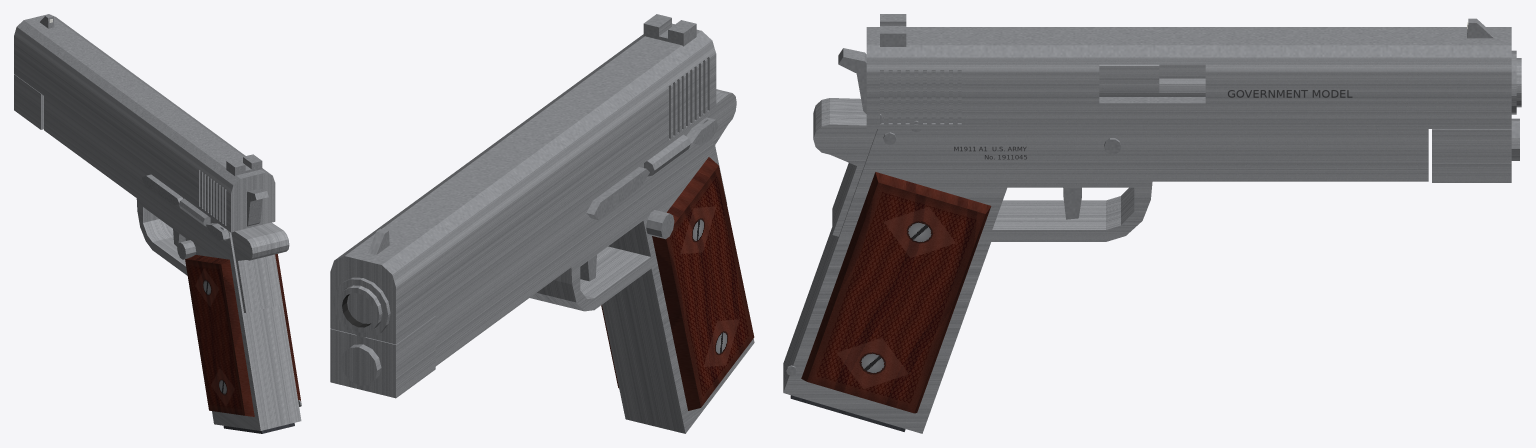
The picture shows the model from 3 angles, left to right: view 1: azimuth 30°, elevation 25°; view 2: azimuth 150°, elevation 25°; view 3: azimuth 270°, elevation 25°; orthographic projection. The views are drawn at different scales.
Visible parts, largest first — view 1: Frame, Slide, Hammer; view 2: Slide, Frame, Barrel; view 3: Frame, Slide, Barrel, Hammer.
Boxes of the visible parts, x1,y1,x2,y2 form: Frame: (44, 96, 301, 430); Slide: (14, 14, 275, 232); Hammer: (247, 188, 268, 226); Slide: (330, 14, 716, 398); Frame: (435, 89, 754, 433); Barrel: (337, 285, 382, 332); Frame: (783, 98, 1428, 433); Slide: (866, 14, 1519, 182); Barrel: (1099, 58, 1521, 107); Hammer: (838, 48, 866, 113).
Bounding box in the file's own units: 0.0303 × 0.1326 × 0.222.
9 materials, 6 textured.
